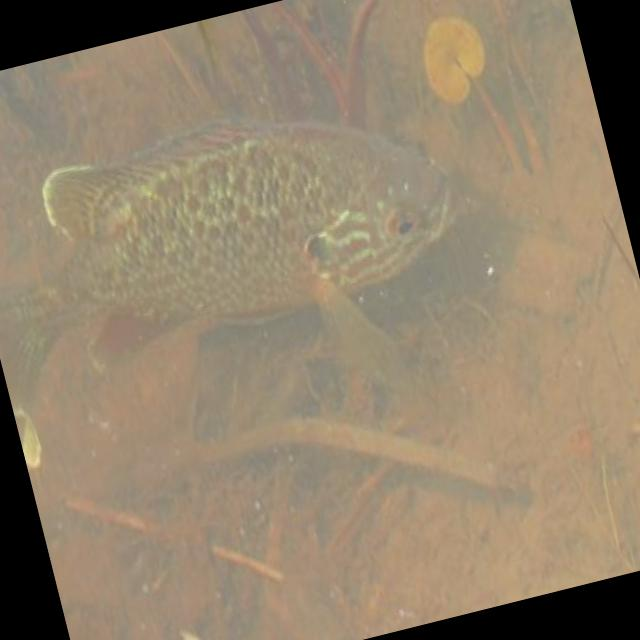Gunes Levregi: (0, 67, 486, 408)
